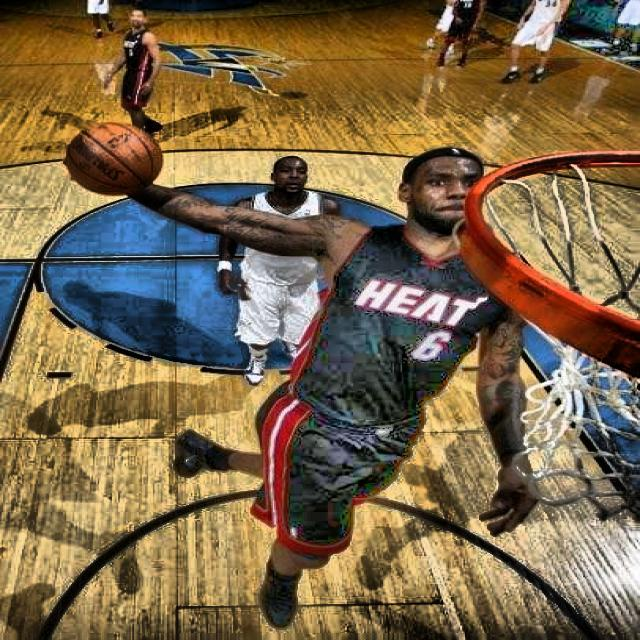board: (66, 120, 163, 195)
